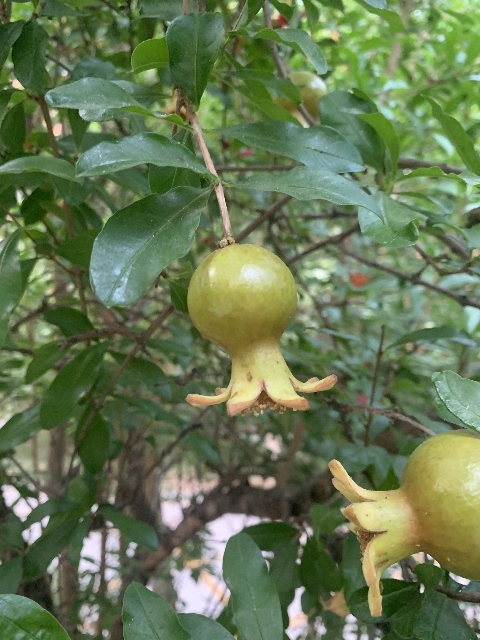mid-growth: (329, 431, 479, 619), (183, 243, 337, 418), (274, 70, 328, 126)
